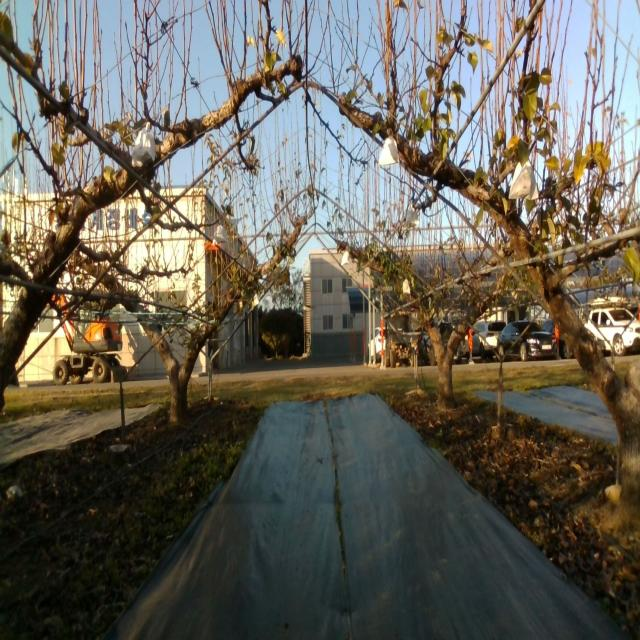pearbags: (508, 160, 540, 202), (132, 130, 156, 167), (378, 133, 400, 167), (402, 203, 419, 234), (212, 224, 228, 248)
